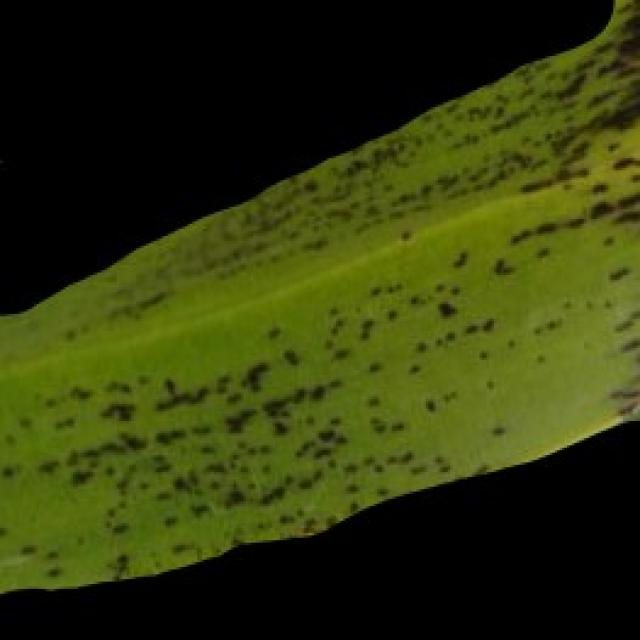mite: (238, 358, 270, 392), (97, 397, 136, 423), (436, 297, 457, 319), (0, 148, 7, 173)
